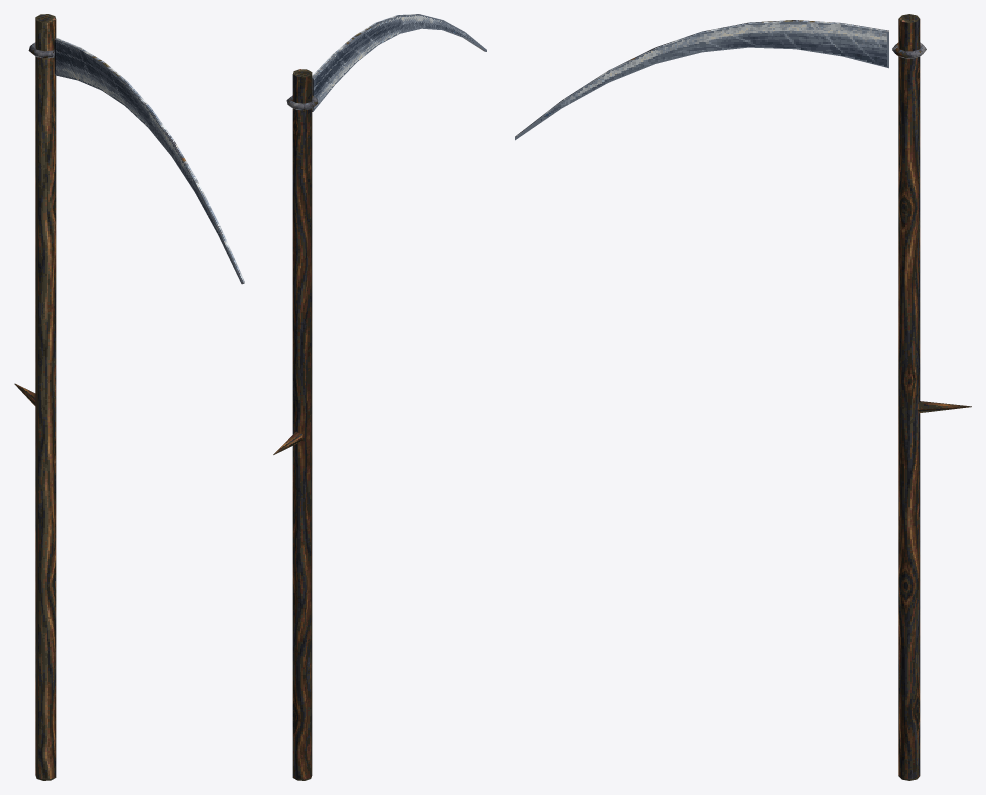
Rendered from scythe.glb.
3 views of the same model, side by side, from view 1: azimuth 30°, elevation 25°; view 2: azimuth 150°, elevation 25°; view 3: azimuth 270°, elevation 25° (orthographic). The views are drawn at different scales.
Visible parts, largest first — view 1: scythe; view 2: scythe; view 3: scythe.
Boxes of the visible parts, left/top/right/bottom form: scythe: left=14, top=14, right=244, bottom=780; scythe: left=273, top=14, right=486, bottom=780; scythe: left=515, top=14, right=971, bottom=780.
Size of the model in its own units: 0.0495 by 1.23 by 0.672.
Materials: 1 (1 with a texture image).
